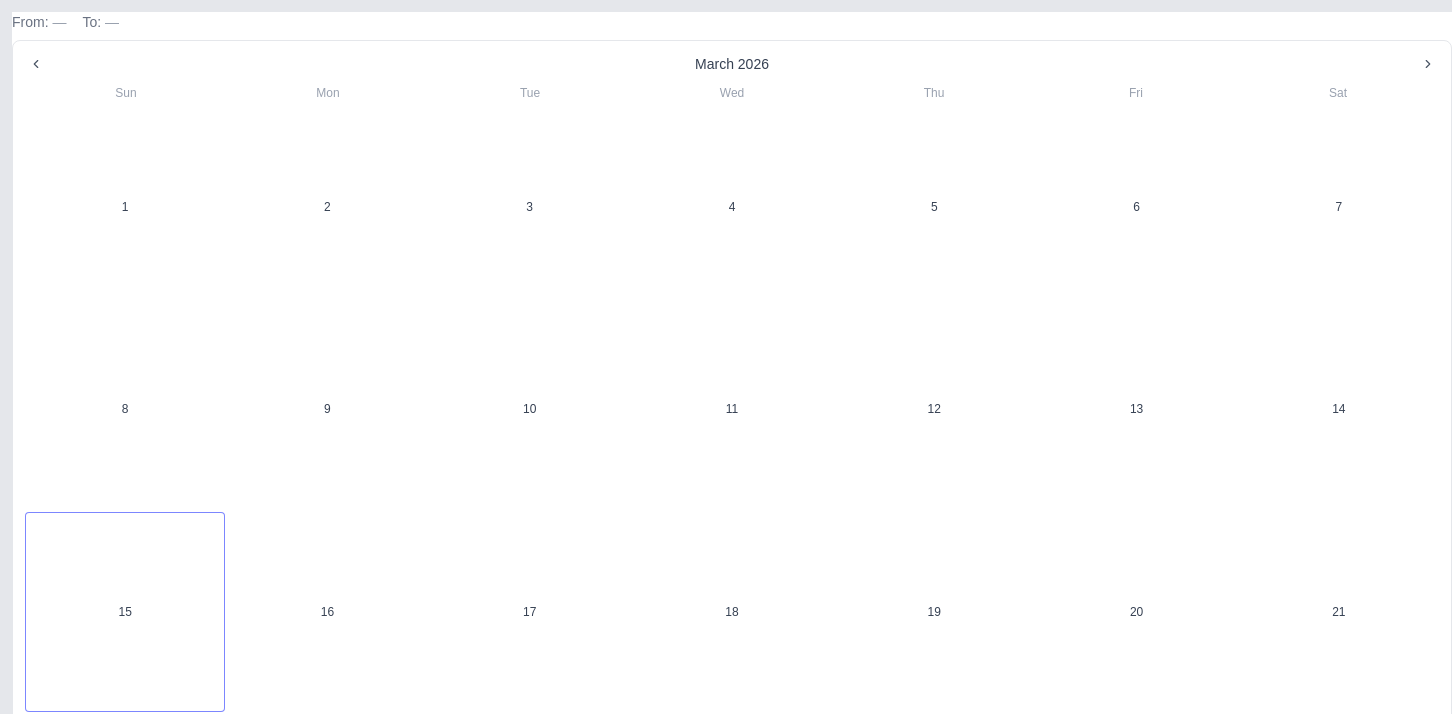
DateRangePicker — selecting dates › shows the start date summary after clicking a day
The image size is (1452, 714).
Click the button named "2026-03-09": point(327, 409) [227,309,428,510]
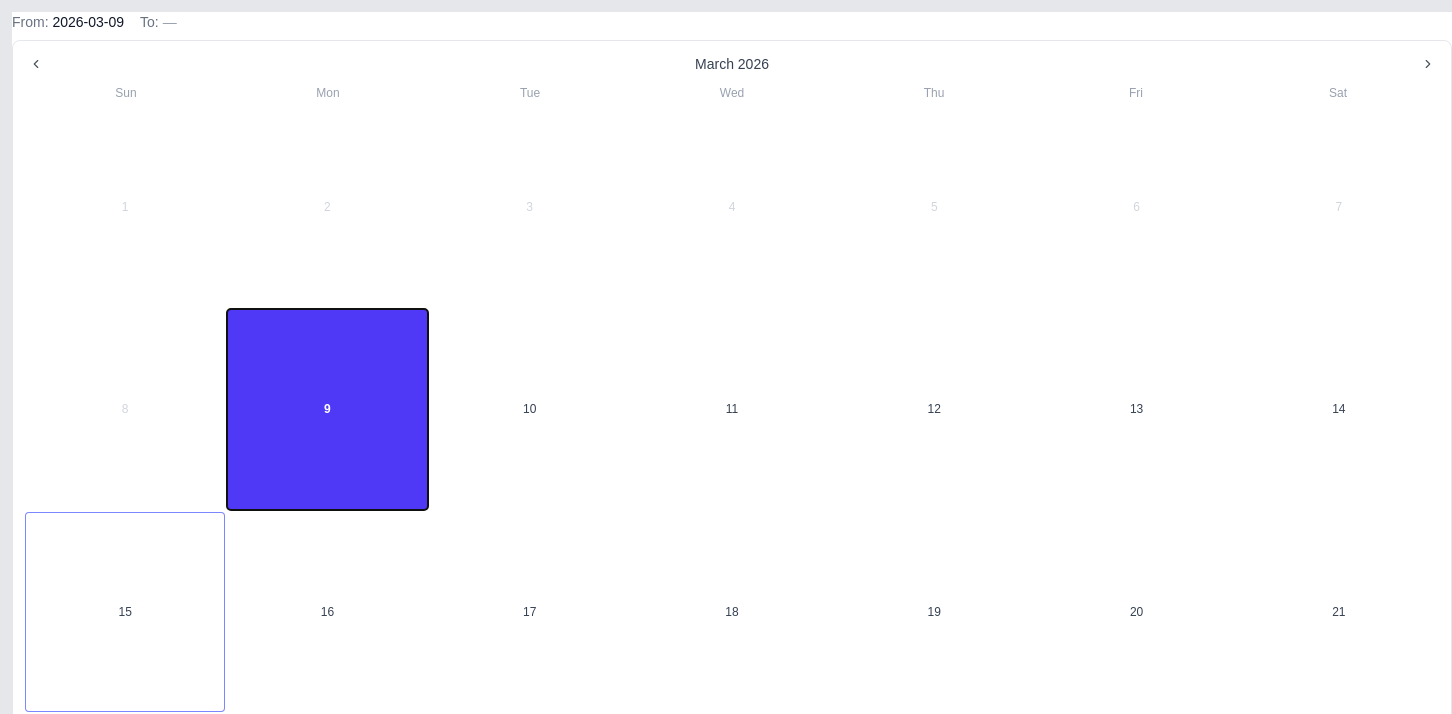
Expected: the text "2026-03-09" is shown, [52,14,124,30]
